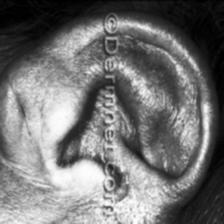Toxin: (116, 195, 162, 224)
